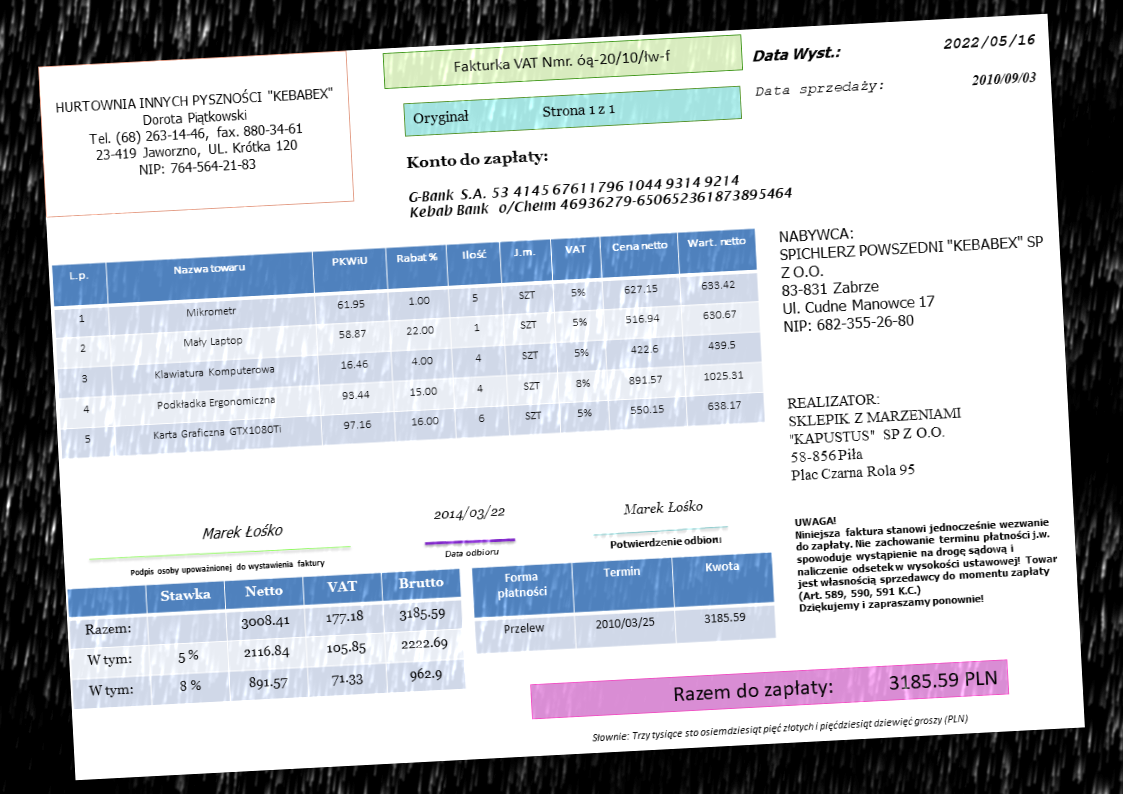Table: (50, 227, 766, 460), (66, 567, 468, 711), (470, 551, 777, 655)
TextBox: (775, 215, 1050, 336), (791, 501, 1062, 616), (53, 83, 340, 185), (405, 169, 794, 223), (784, 385, 968, 484), (589, 710, 971, 747), (671, 666, 1001, 708), (450, 45, 672, 77), (411, 99, 618, 127), (126, 554, 329, 580), (402, 144, 552, 175), (752, 77, 885, 99), (607, 532, 726, 552), (939, 30, 1037, 54), (749, 42, 844, 64), (200, 520, 285, 542), (430, 503, 509, 526), (621, 498, 705, 519), (969, 69, 1037, 87), (441, 544, 501, 561)
